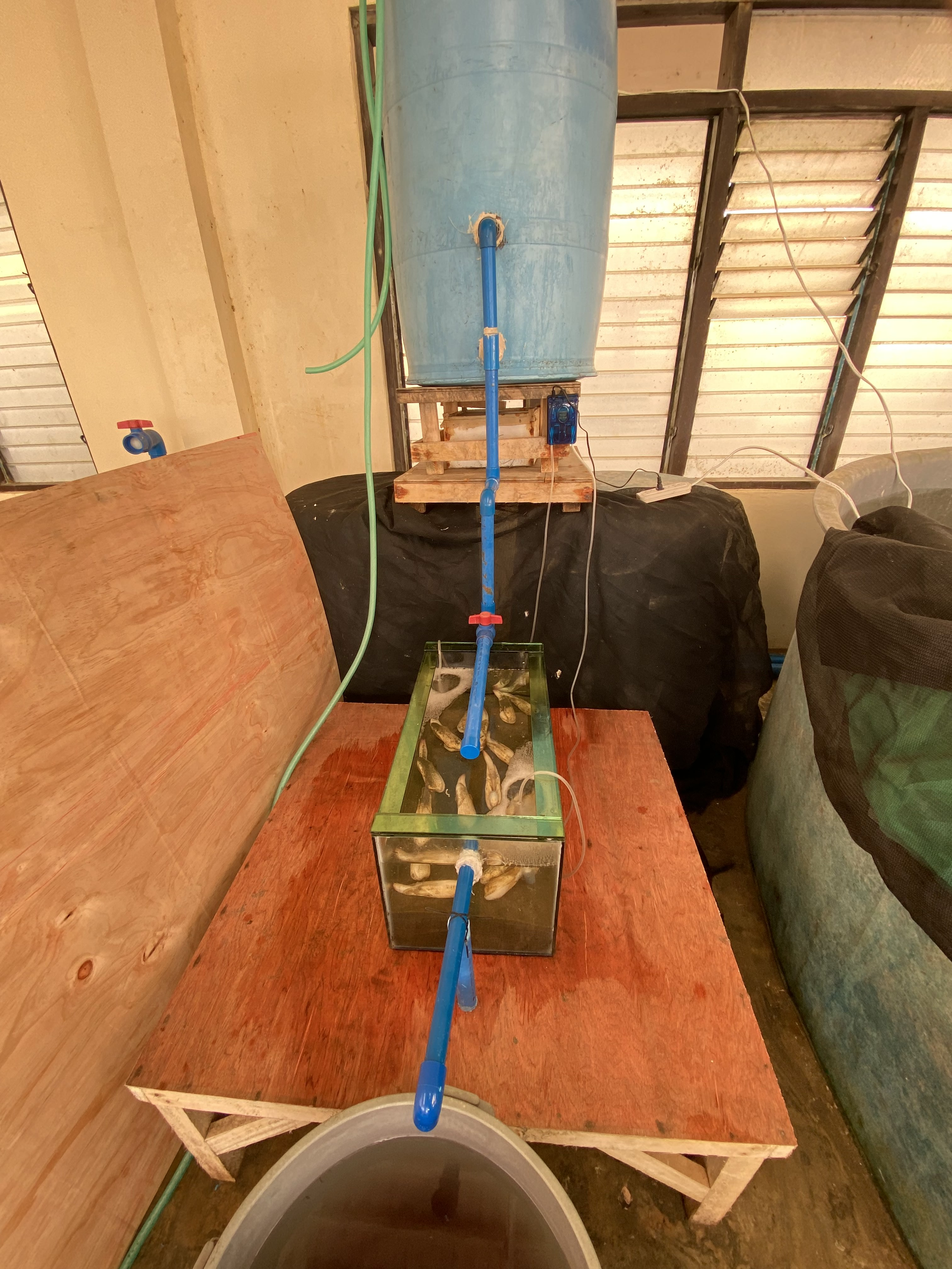Healthy: (418, 740, 445, 792), (494, 689, 527, 725), (484, 752, 501, 809), (455, 775, 476, 815), (486, 736, 513, 765)
